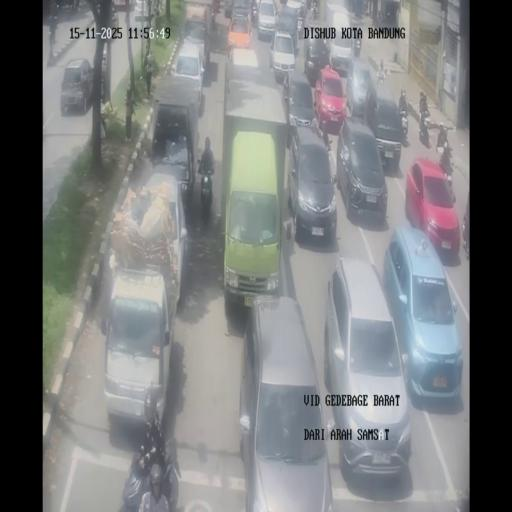car: (240, 296, 332, 506), (385, 228, 462, 404), (222, 130, 283, 309), (287, 124, 337, 245), (337, 116, 388, 223), (60, 58, 95, 115), (282, 69, 313, 130), (346, 56, 374, 120), (269, 29, 295, 81), (304, 38, 330, 86), (227, 14, 252, 58), (282, 0, 308, 38), (256, 0, 278, 40), (100, 47, 108, 103), (108, 3, 118, 27), (134, 0, 150, 13), (224, 0, 234, 18)
motorcycle: (120, 398, 180, 509), (198, 164, 214, 221), (438, 156, 454, 198), (419, 109, 431, 146), (398, 103, 409, 138), (462, 212, 469, 259), (209, 2, 218, 33), (48, 18, 57, 45), (353, 36, 361, 56), (251, 0, 259, 19), (312, 3, 318, 20), (378, 9, 384, 24), (362, 1, 368, 16), (386, 9, 392, 24), (72, 0, 80, 11)
truck: (104, 170, 190, 428), (149, 78, 202, 206), (181, 1, 214, 71), (325, 4, 355, 74)
